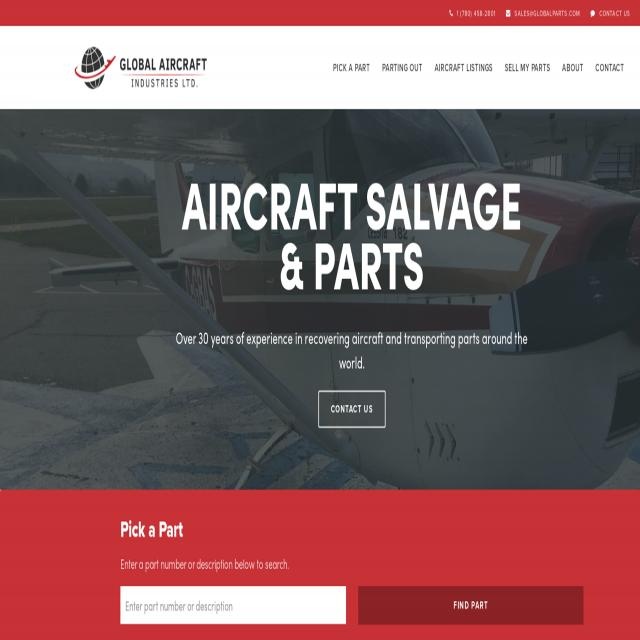button: (360, 588, 584, 624), (74, 46, 207, 90), (318, 390, 386, 428), (428, 57, 499, 78), (500, 3, 584, 20), (499, 57, 556, 78), (376, 57, 428, 78), (328, 57, 377, 78), (590, 57, 628, 80), (444, 4, 498, 20), (588, 5, 636, 22), (556, 57, 590, 78)
field: (120, 588, 346, 622)
